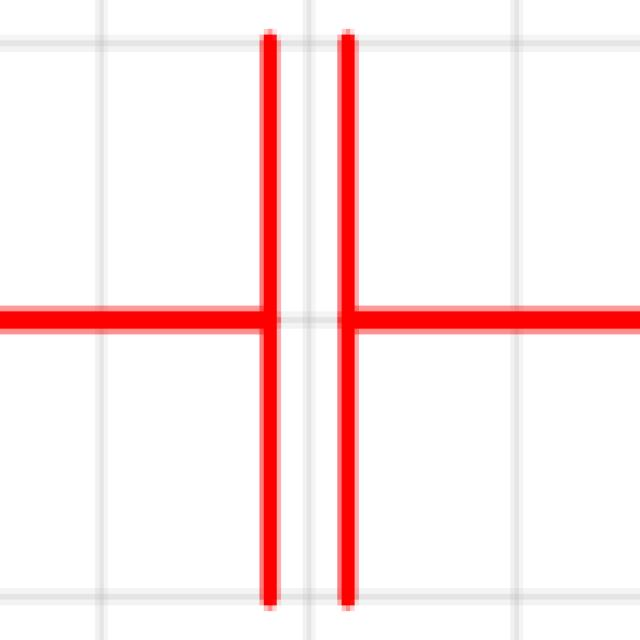cap: (10, 29, 628, 626)
